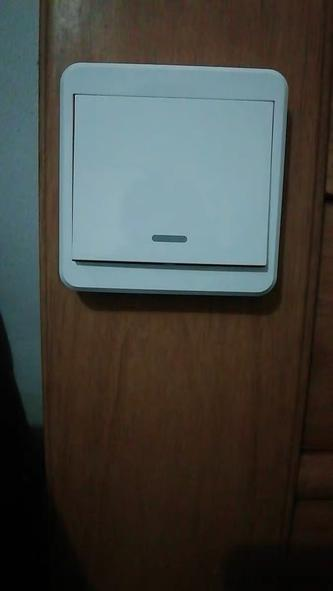switch: (70, 97, 280, 272)
